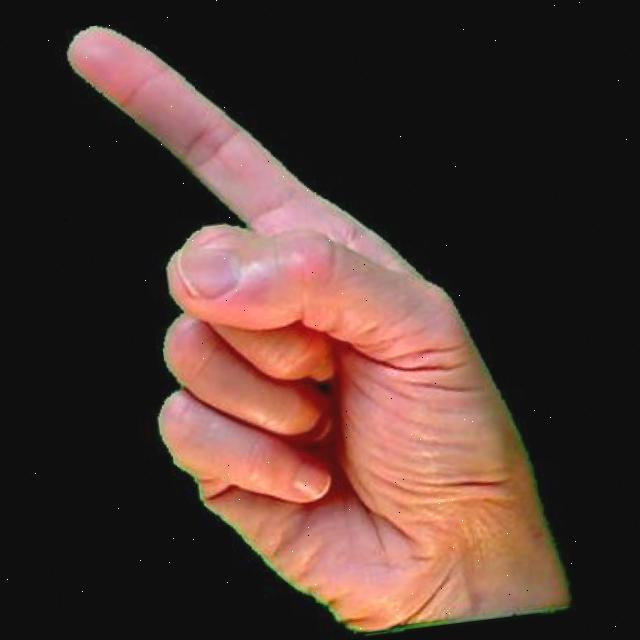z: (51, 0, 573, 640)
